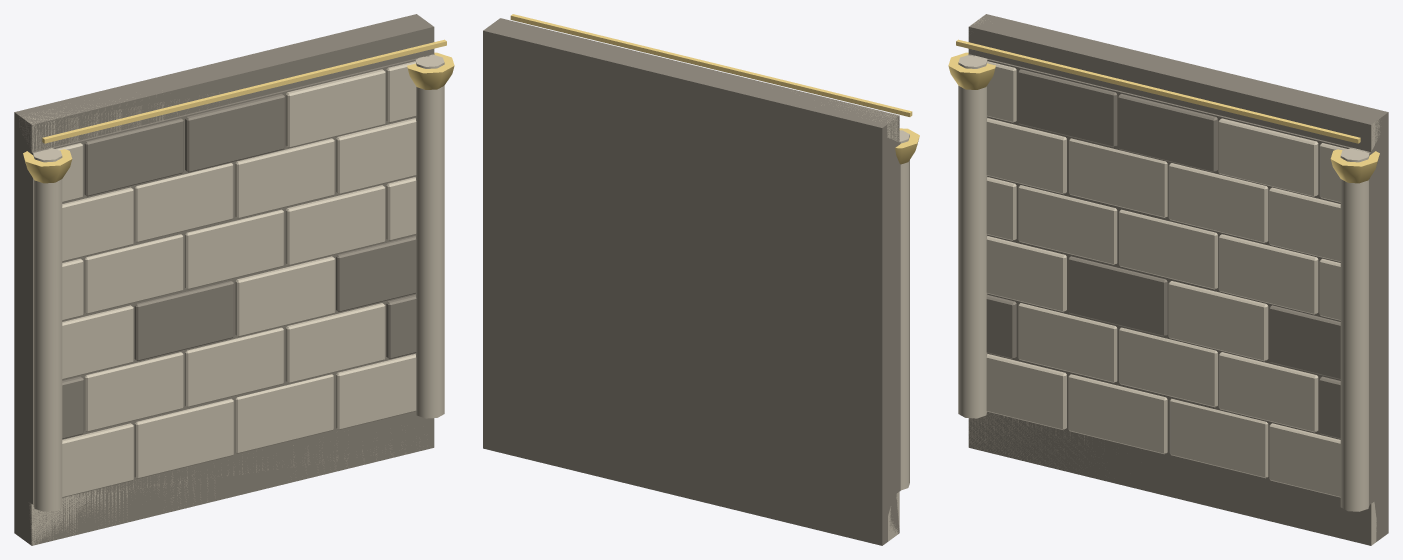
The model's file is wall_bb_stone2.glb.
The picture shows the model from 3 angles, left to right: view 1: azimuth 30°, elevation 25°; view 2: azimuth 150°, elevation 25°; view 3: azimuth 330°, elevation 25°; orthographic projection.
Visible parts, largest first — view 1: wall_bb_stone2; view 2: wall_bb_stone2; view 3: wall_bb_stone2.
Part boxes in pixels (x1=…): wall_bb_stone2: x1=14, y1=14, x2=454, y2=545; wall_bb_stone2: x1=483, y1=14, x2=919, y2=545; wall_bb_stone2: x1=948, y1=14, x2=1388, y2=545.
Bounding box in the file's own units: 4.24 × 4 × 0.62.
